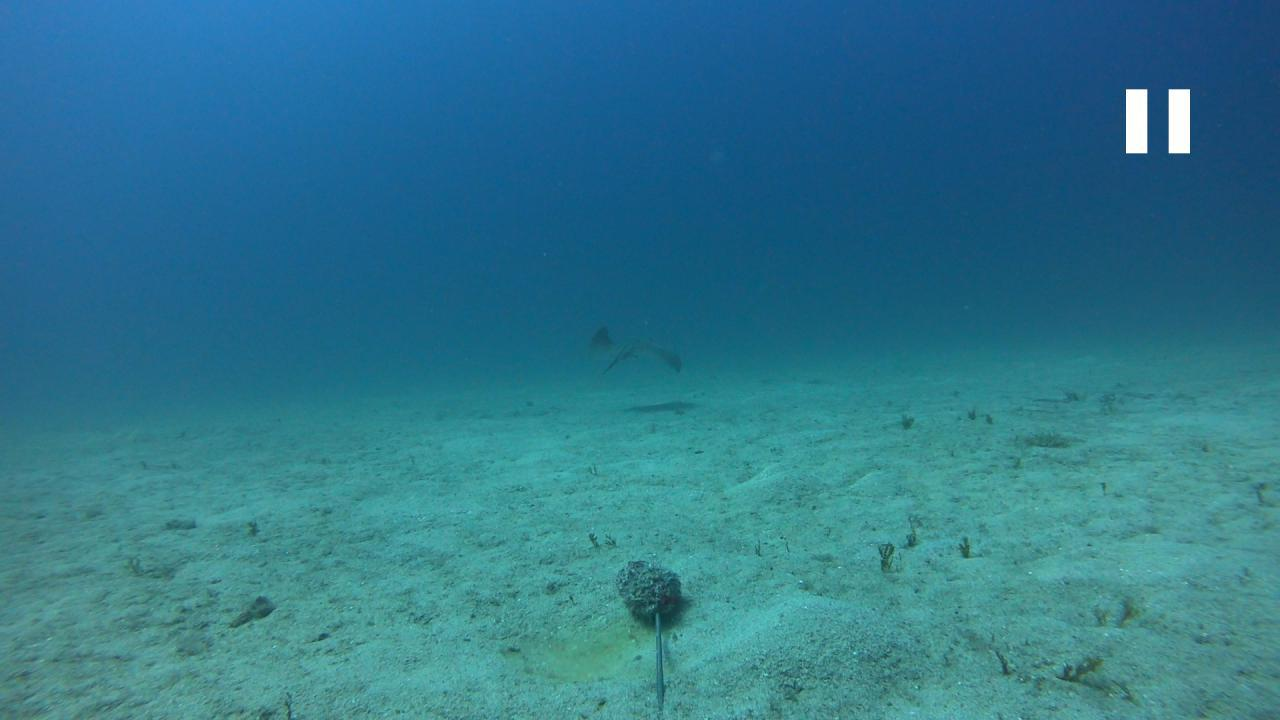dasyatis: (588, 326, 682, 374)
